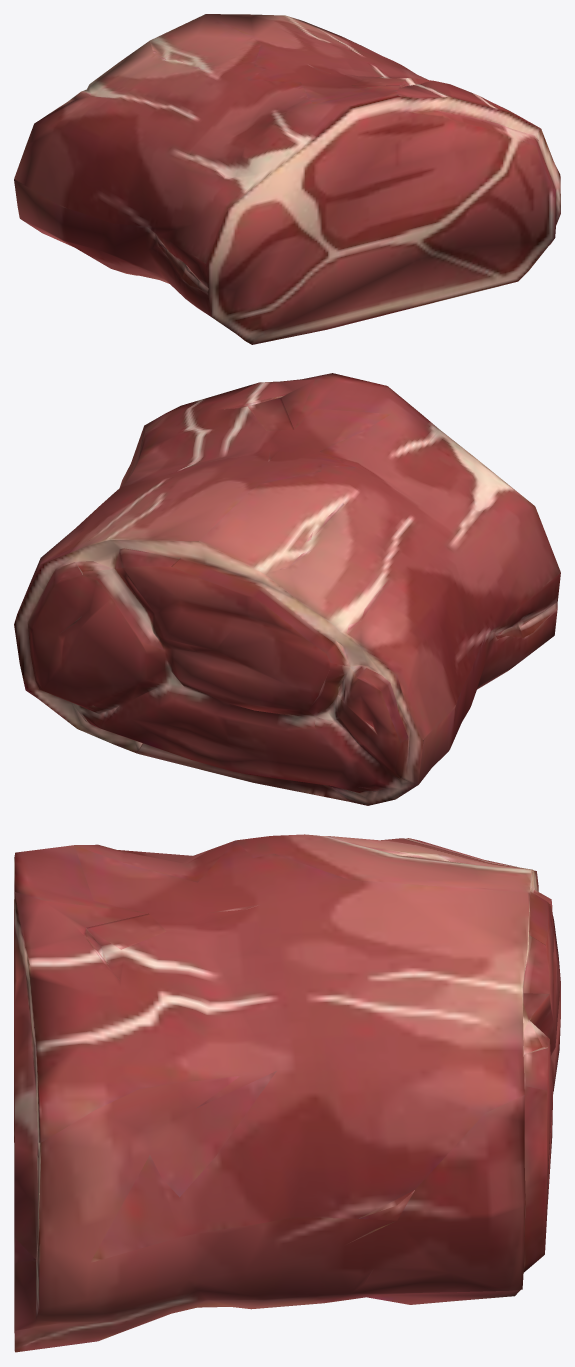
The model's file is raw_venison.glb.
The picture shows the model from 3 angles, top to bottom: view 1: azimuth 30°, elevation 25°; view 2: azimuth 150°, elevation 25°; view 3: azimuth 270°, elevation 25°; orthographic projection. The views are drawn at different scales.
Parts seen in each view (by area): view 1: Mesh1.0; view 2: Mesh1.0; view 3: Mesh1.0.
Part boxes in pixels (x1=…): Mesh1.0: x1=14, y1=14, x2=560, y2=344; Mesh1.0: x1=14, y1=373, x2=560, y2=805; Mesh1.0: x1=14, y1=834, x2=560, y2=1352.
Size of the model in its own units: 1.91 by 0.9913 by 1.34.
Materials: 1 (1 with a texture image).
